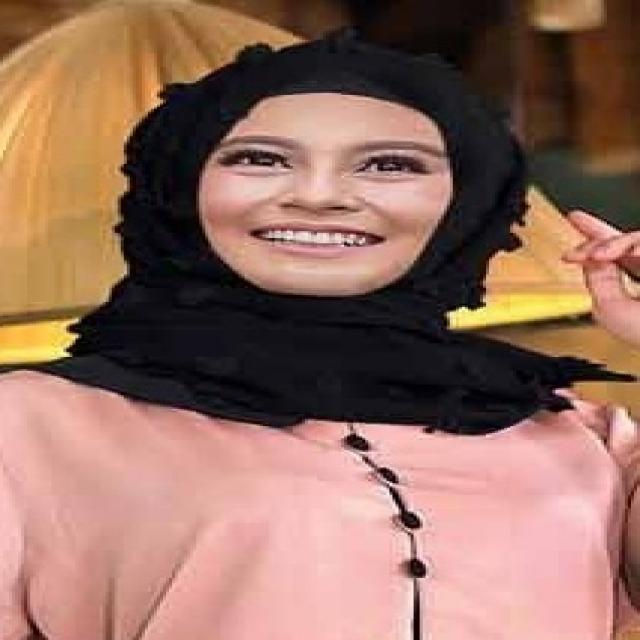head: (157, 45, 531, 299)
